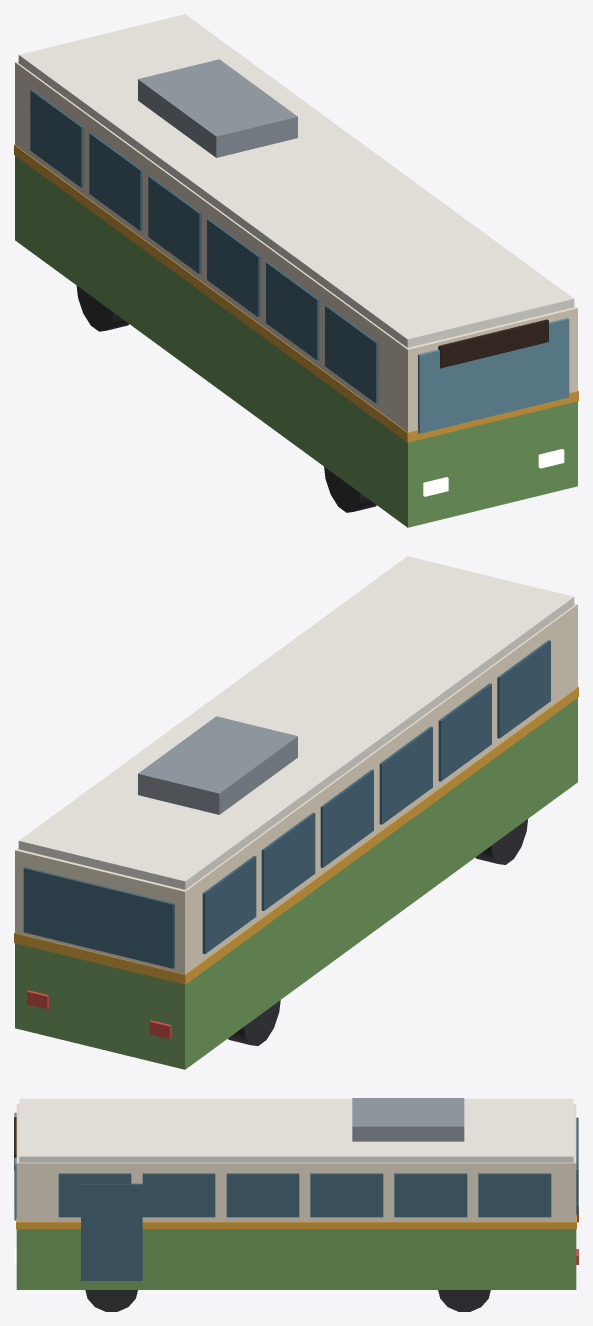
The model's file is bus-01.glb.
3 views of the same model, one above another, from view 1: azimuth 30°, elevation 25°; view 2: azimuth 150°, elevation 25°; view 3: azimuth 270°, elevation 25° (orthographic). The views are drawn at different scales.
Visible parts, largest first — view 1: Roof, Body, Windows, Stripe, Sign, Wheels, Lights; view 2: Roof, Body, Windows, Stripe, Wheels, Lights; view 3: Body, Roof, Windows, Door, Stripe, Wheels.
Boxes of the visible parts, x1,y1,x2,y2 form: Roof: [18, 14, 574, 347]; Body: [15, 61, 577, 527]; Windows: [30, 89, 569, 433]; Stripe: [14, 144, 578, 442]; Sign: [438, 319, 548, 368]; Wheels: [76, 286, 376, 512]; Lights: [423, 449, 564, 496]; Roof: [18, 556, 574, 889]; Body: [15, 603, 577, 1069]; Windows: [23, 640, 550, 968]; Stripe: [14, 686, 578, 984]; Wheels: [228, 819, 527, 1045]; Lights: [27, 990, 171, 1039]; Body: [16, 1104, 576, 1289]; Roof: [19, 1098, 573, 1162]; Windows: [14, 1112, 578, 1220]; Door: [81, 1183, 142, 1280]; Stripe: [16, 1215, 576, 1229]; Wheels: [85, 1290, 490, 1311].
Size of the model in its own units: 2.58 by 3.36 by 10.09.
